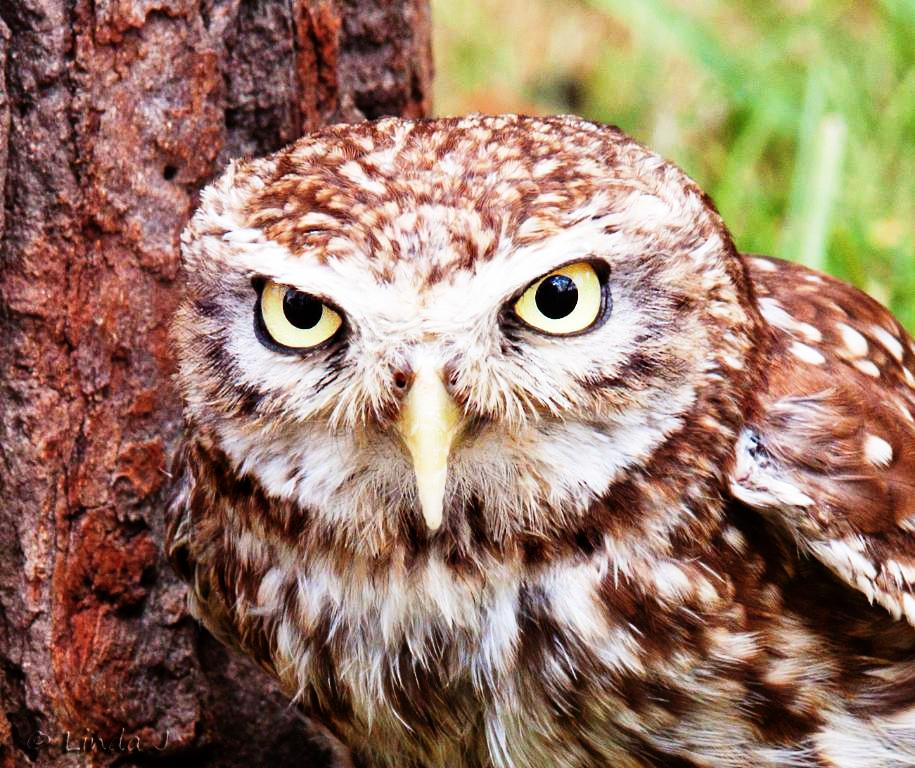Owl: (178, 109, 914, 767)
